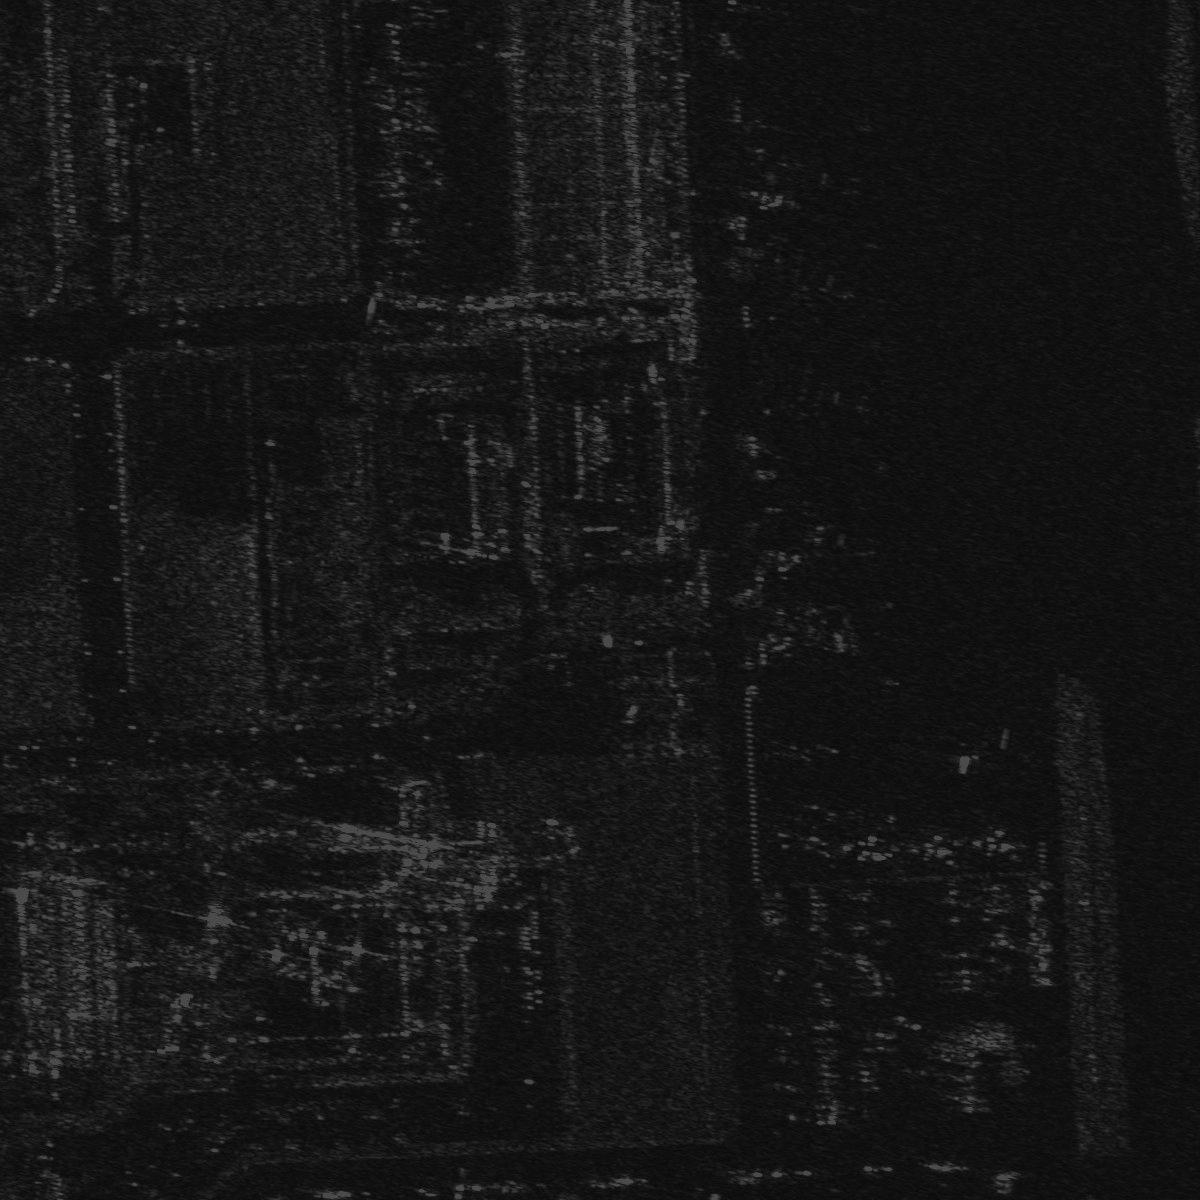A220: (758, 520, 878, 592)
A320/321: (752, 357, 879, 460)
ARJ21: (842, 831, 900, 864)
other: (773, 265, 860, 331), (907, 826, 963, 868), (971, 825, 1027, 865)
